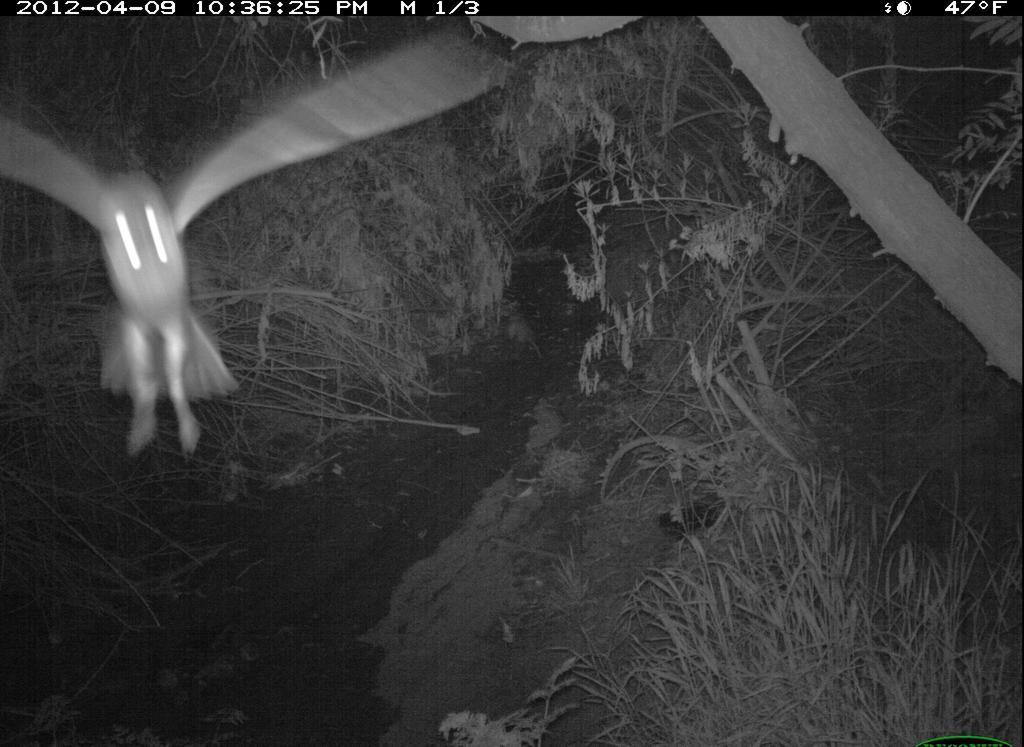bird: (1, 26, 529, 464)
